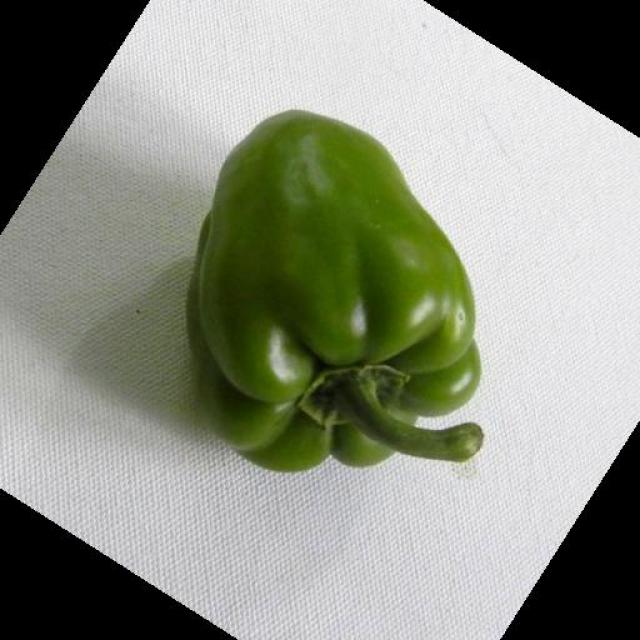Fresh_Capsicum: (202, 84, 490, 498)
